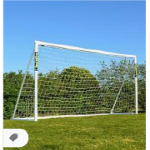goals: (11, 37, 141, 122)
